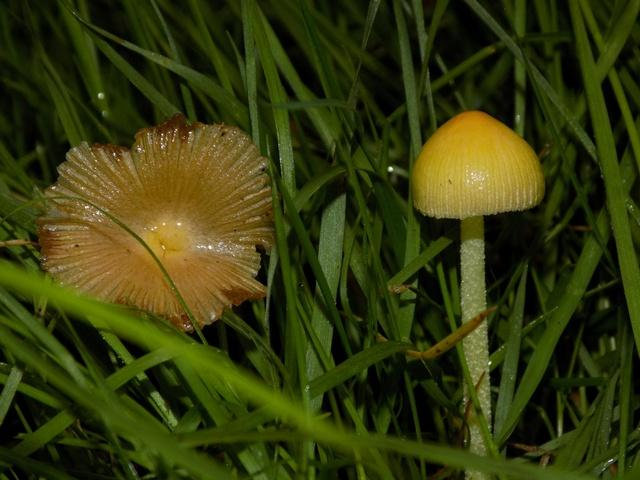Edible Mushroom: (34, 112, 277, 334), (410, 108, 545, 477)
